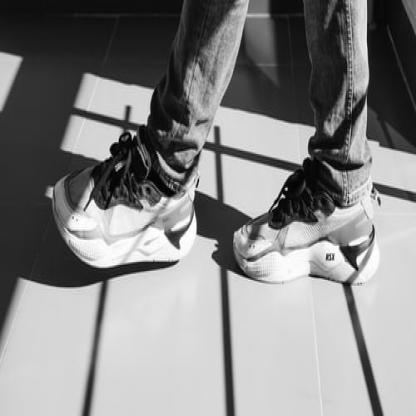ankle: (337, 207, 341, 215), (165, 180, 167, 188)
heel: (180, 235, 183, 241), (364, 248, 366, 253)
left_foot: (54, 147, 196, 267)
pinky: (87, 232, 90, 238), (251, 223, 254, 225)
right_foot: (235, 164, 379, 284)
toe: (65, 182, 67, 187), (252, 246, 254, 251)
